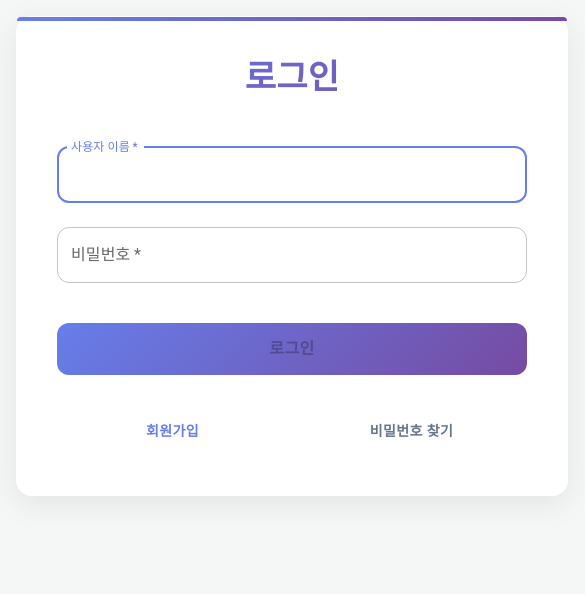
Test case: LoginPage › should display error when fetch fails
Type "testuser" into the field labelled "사용자 이름 *" at (292, 175), box [57,147,527,203]
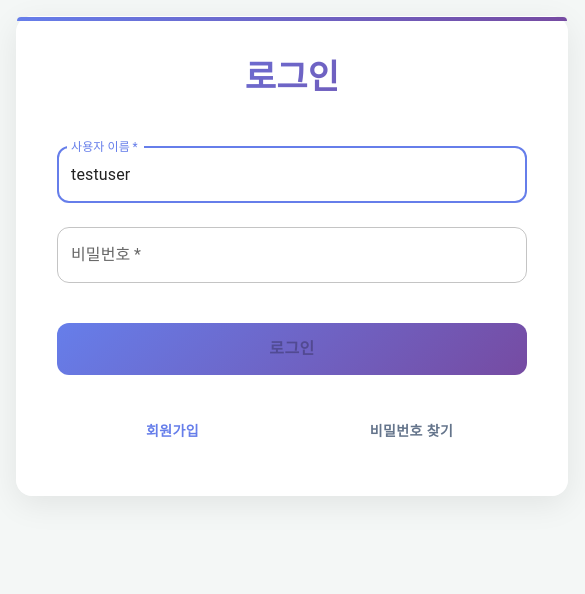
Type "password123" into the password field labelled "비밀번호 *" at (292, 255), box [57,227,527,283]
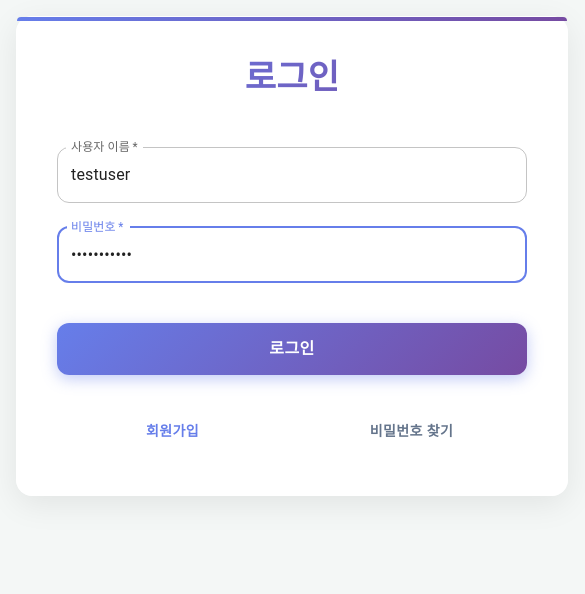
Click the button "로그인" at (292, 349), box [57,323,527,375]
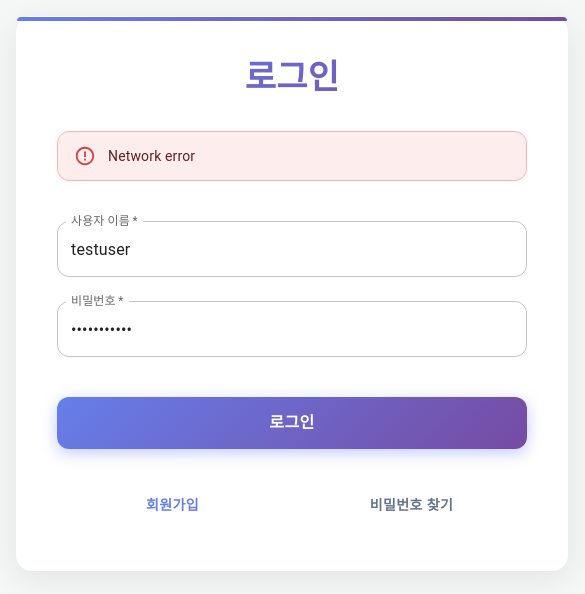
Result: the text "Network error" is shown at [108,148,195,164]
